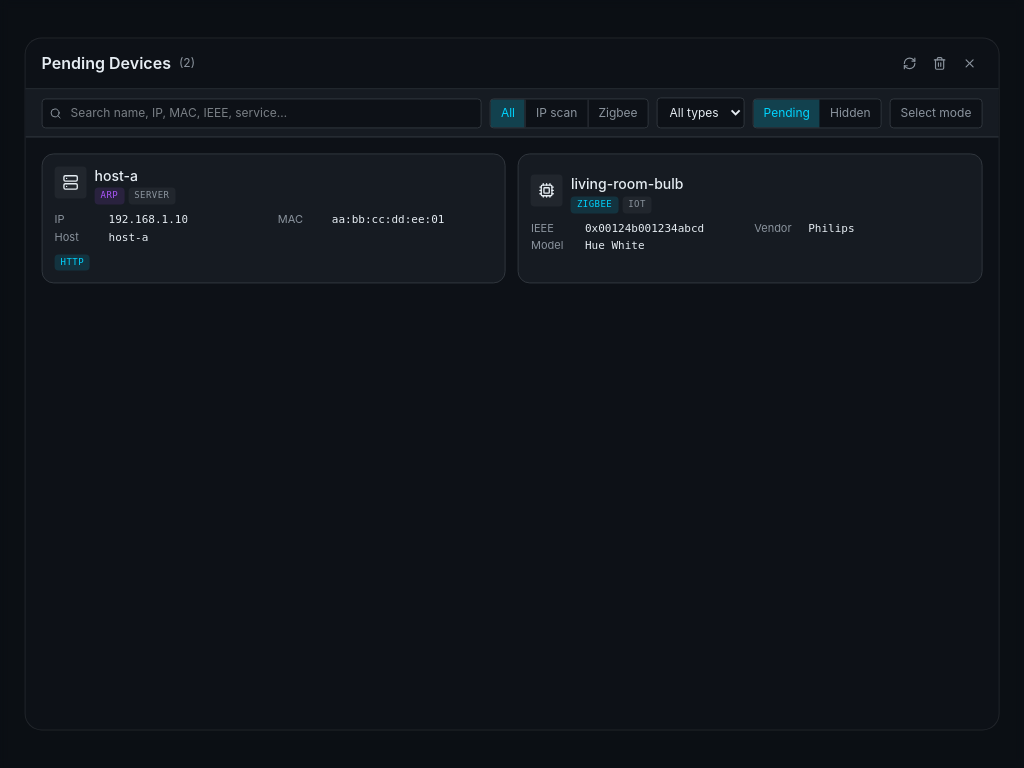
PendingDevicesModal › switches to hidden status loads hidden devices
The image size is (1024, 768).
Expected: the button with test id "pending-card-dev-a" is shown, [42,153,506,284]
What coordinates should you click on to do the following:
click the button "Hidden"
I would click on:
 (850, 113)
Its box is [820,99,881,127].
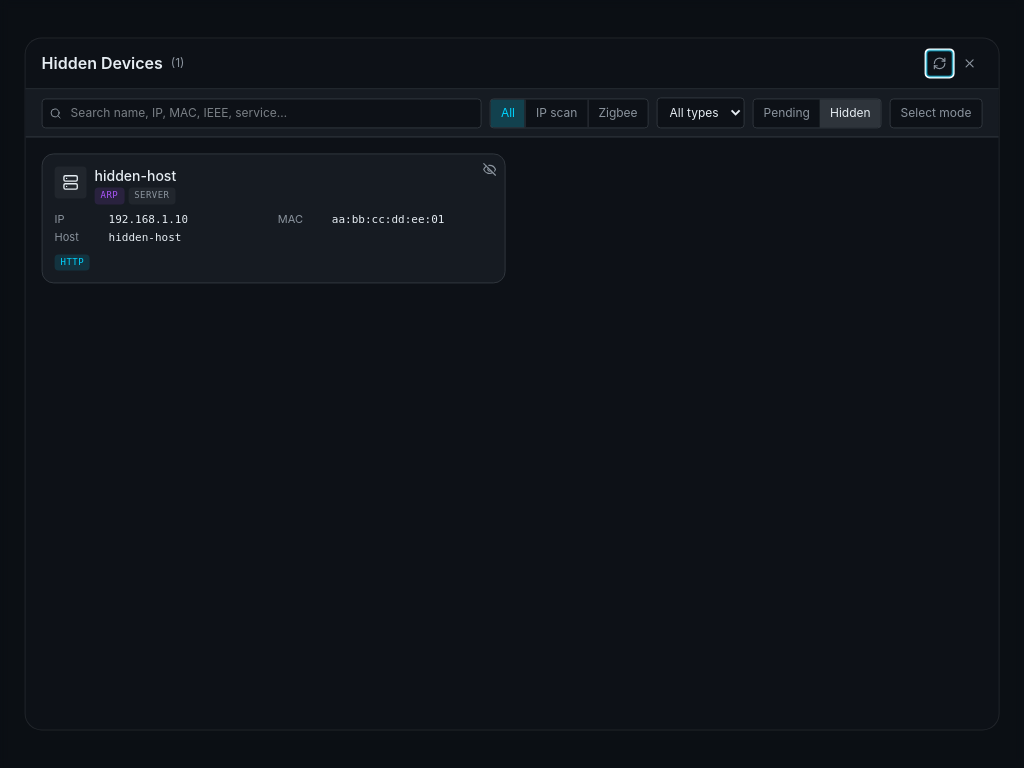
Now the button with test id "pending-card-h1" is shown, box [42,153,506,284]
